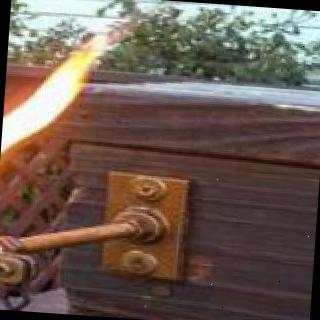fire: (0, 19, 125, 205)
